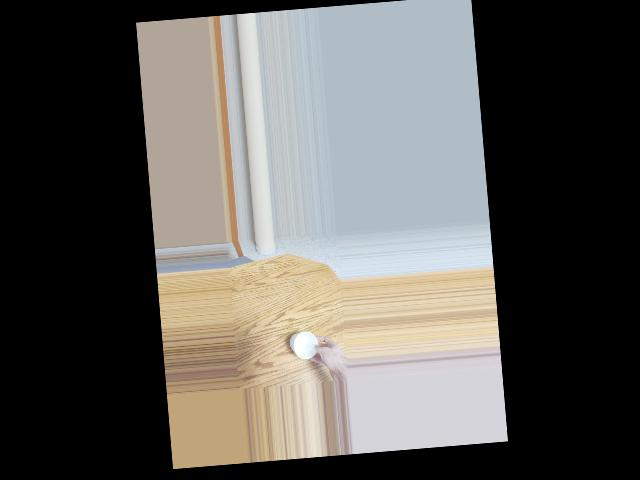cotage: (289, 325, 324, 365)
